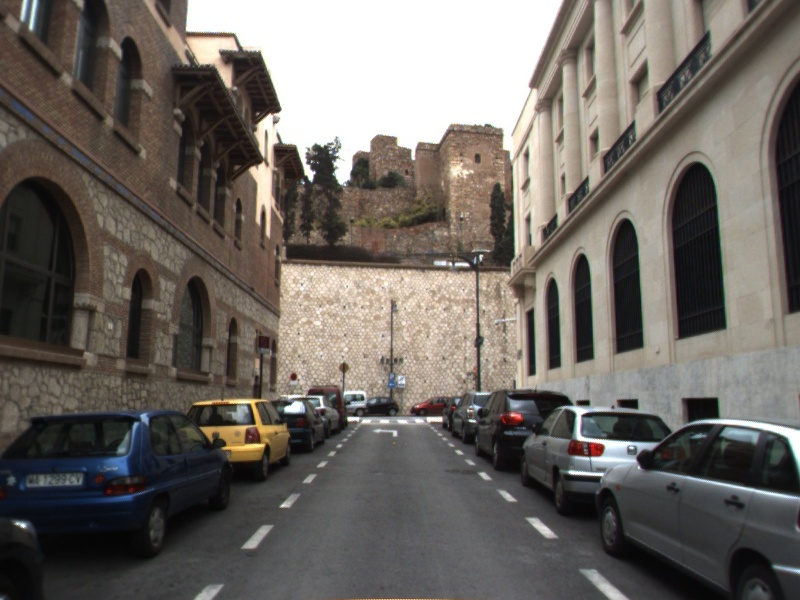LEFT: (371, 426, 400, 439)
